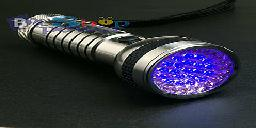LED: (149, 42, 240, 98)
